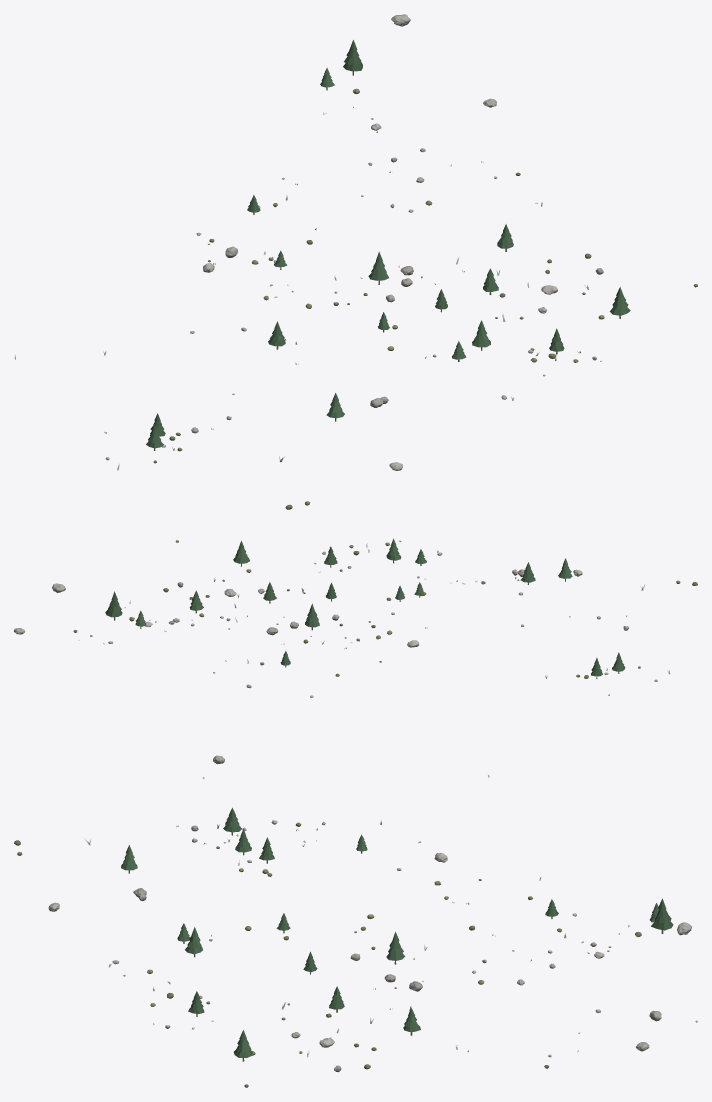
Rendered from coast_land_scatter_c10_18.glb.
The picture shows the model from 3 angles, top to bottom: view 1: azimuth 30°, elevation 25°; view 2: azimuth 150°, elevation 25°; view 3: azimuth 270°, elevation 25°; orthographic projection. The views are drawn at different scales.
Parts seen in each view (by area): view 1: coast_land_scatter_c10_18; view 2: coast_land_scatter_c10_18; view 3: coast_land_scatter_c10_18.
Part boxes in pixels (left/top/right/bottom): coast_land_scatter_c10_18: left=14, top=14, right=697, bottom=509; coast_land_scatter_c10_18: left=14, top=538, right=697, bottom=778; coast_land_scatter_c10_18: left=14, top=807, right=697, bottom=1087.
Size of the model in its own units: 247 by 75.03 by 248.
